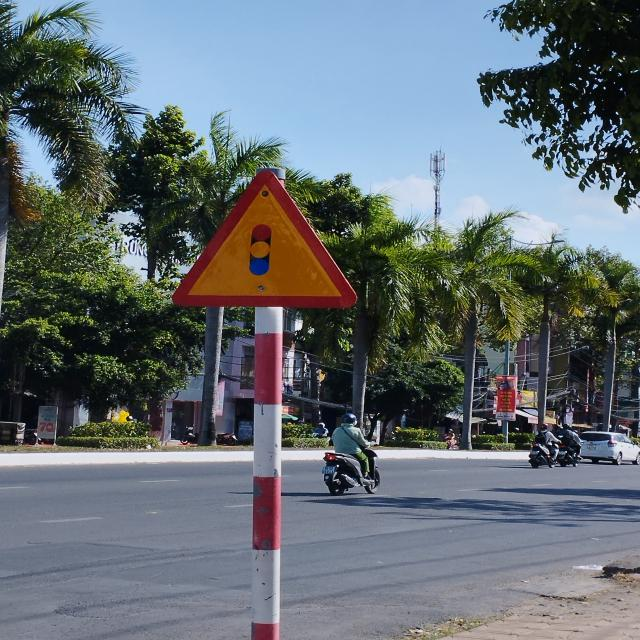Duong_Co_Go_Giam_Toc: (164, 169, 358, 307)
